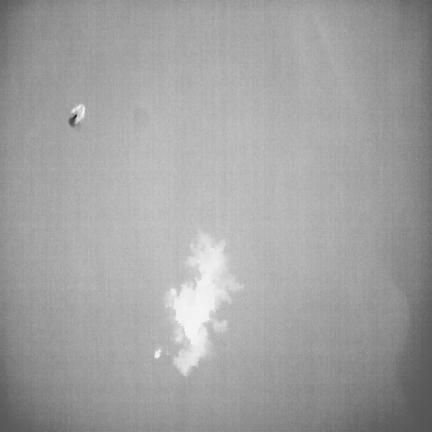flukeprints: (165, 233, 242, 375), (155, 349, 159, 358)
